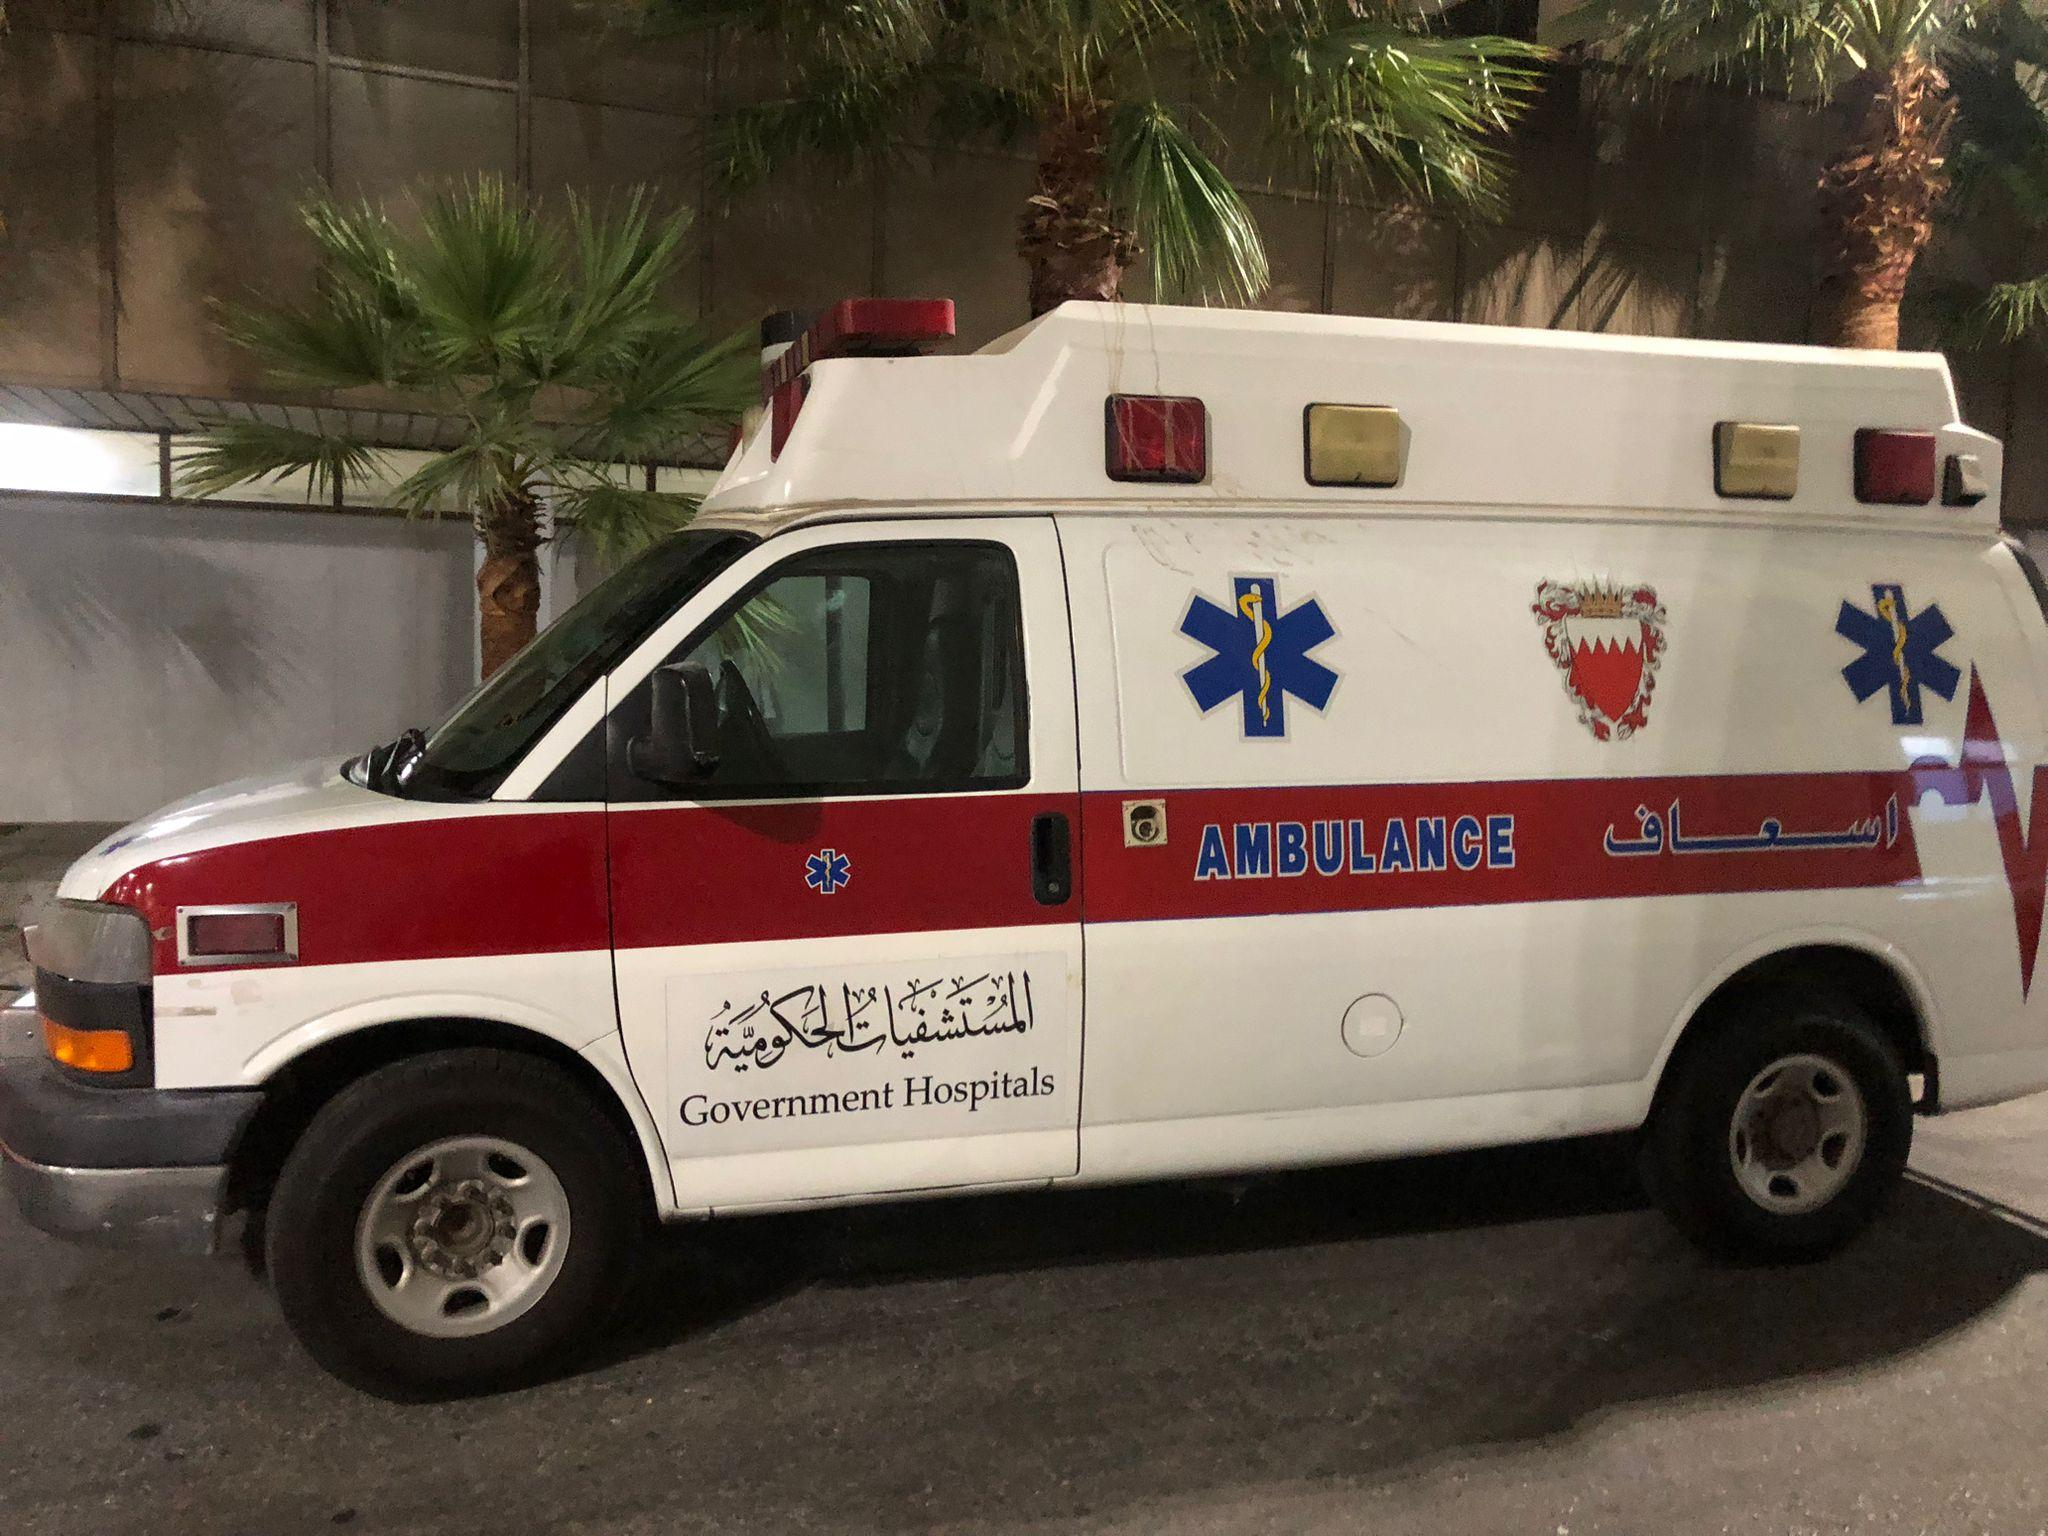ambulance_off: (7, 287, 2039, 1400)
